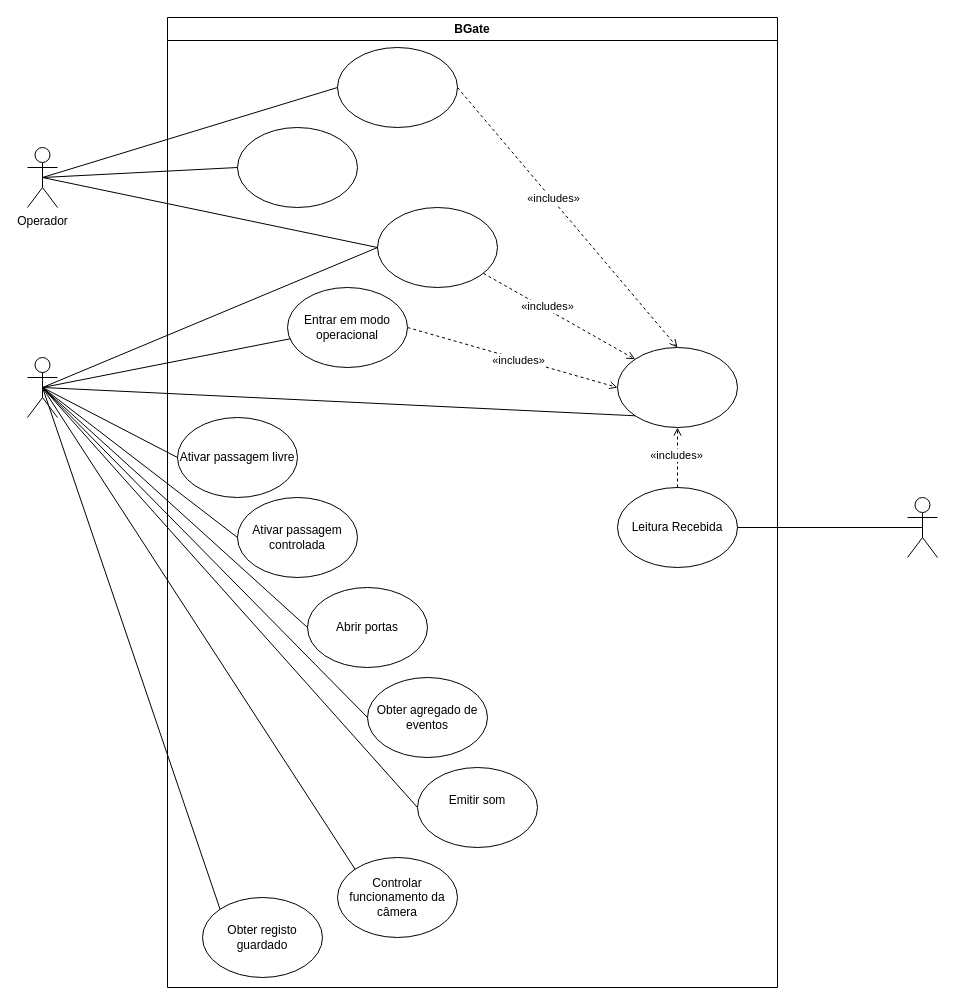
The diagram is 963 pixels wide and 1005 high, and some of its shapes have lost their labels. The shapes that lost their labels are listed below. From the top down, each one's box as (x1, y1, x2, y2) in pixels, then its label:
(336, 46, 458, 128): Ligar BGate
(236, 126, 358, 208): Desligar BGate
(376, 206, 498, 288): Entrar em modo inoperacional
(26, 356, 58, 418): Cliente
(616, 346, 738, 428): Informar evento ocorrido
(906, 496, 938, 558): Visitante
